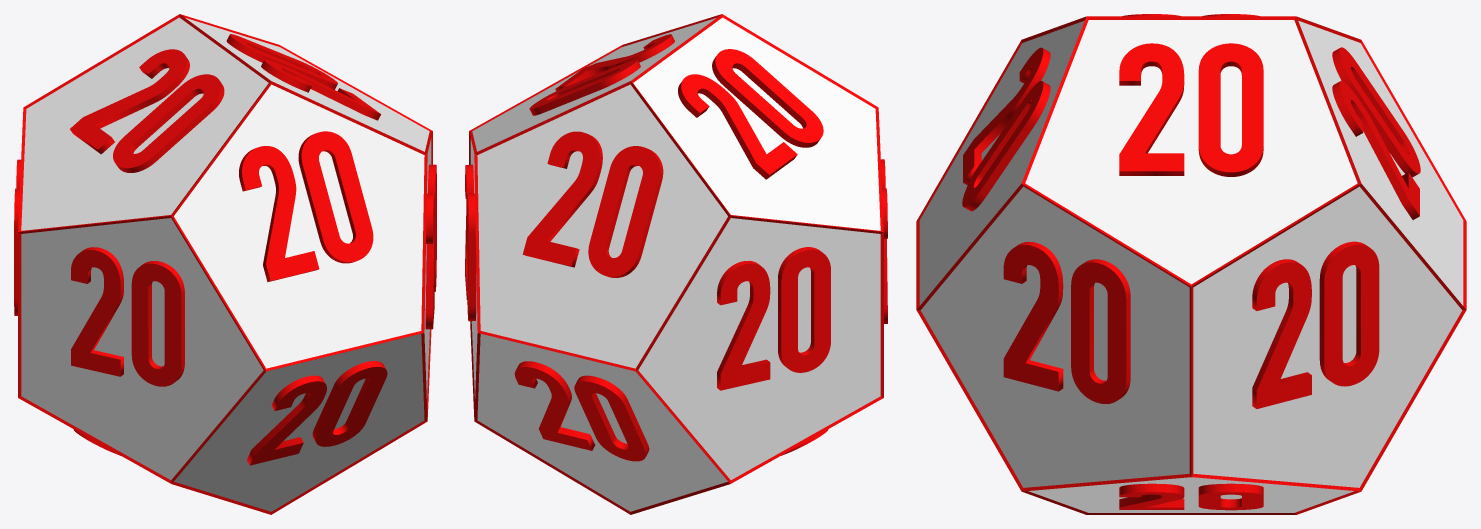
File: dodecahedron_sign-20.glb
3 views of the same model, side by side, from view 1: azimuth 30°, elevation 25°; view 2: azimuth 150°, elevation 25°; view 3: azimuth 270°, elevation 25° (orthographic). The views are drawn at different scales.
Parts seen in each view (by area): view 1: Dodecahedron_Solid, Text20_5, Text20_11, Dodecahedron_Wire, Text20_7, Text20_10, Text20_2, Text20_6, Text20_8; view 2: Dodecahedron_Solid, Text20_0, Text20_8, Dodecahedron_Wire, Text20_7, Text20_3, Text20_2, Text20_1, Text20_11; view 3: Dodecahedron_Solid, Dodecahedron_Wire, Text20_1, Text20_6, Text20_2, Text20_0, Text20_5, Text20_4.
Boxes of the visible parts, x1=… form: Dodecahedron_Solid: x1=21, y1=17, x2=431, y2=511; Text20_5: x1=239, y1=131, x2=373, y2=282; Text20_11: x1=71, y1=247, x2=184, y2=386; Dodecahedron_Wire: x1=18, y1=14, x2=432, y2=514; Text20_7: x1=70, y1=49, x2=224, y2=172; Text20_10: x1=247, y1=361, x2=387, y2=465; Text20_2: x1=226, y1=34, x2=380, y2=120; Text20_6: x1=425, y1=164, x2=436, y2=329; Text20_8: x1=14, y1=159, x2=20, y2=315; Dodecahedron_Solid: x1=470, y1=17, x2=880, y2=511; Text20_0: x1=522, y1=131, x2=663, y2=277; Text20_8: x1=717, y1=247, x2=830, y2=390; Dodecahedron_Wire: x1=469, y1=14, x2=883, y2=514; Text20_7: x1=678, y1=49, x2=823, y2=179; Text20_3: x1=514, y1=361, x2=649, y2=461; Text20_2: x1=529, y1=34, x2=674, y2=115; Text20_1: x1=465, y1=164, x2=476, y2=321; Text20_11: x1=881, y1=159, x2=887, y2=323; Dodecahedron_Solid: x1=919, y1=20, x2=1463, y2=512; Dodecahedron_Wire: x1=916, y1=16, x2=1466, y2=514; Text20_1: x1=1252, y1=241, x2=1379, y2=408; Text20_6: x1=1003, y1=241, x2=1130, y2=403; Text20_2: x1=1119, y1=43, x2=1263, y2=176; Text20_0: x1=1332, y1=47, x2=1420, y2=219; Text20_5: x1=962, y1=47, x2=1050, y2=211; Text20_4: x1=1119, y1=483, x2=1263, y2=510.
Size of the model in its own units: 3.26 by 3.26 by 3.26.
